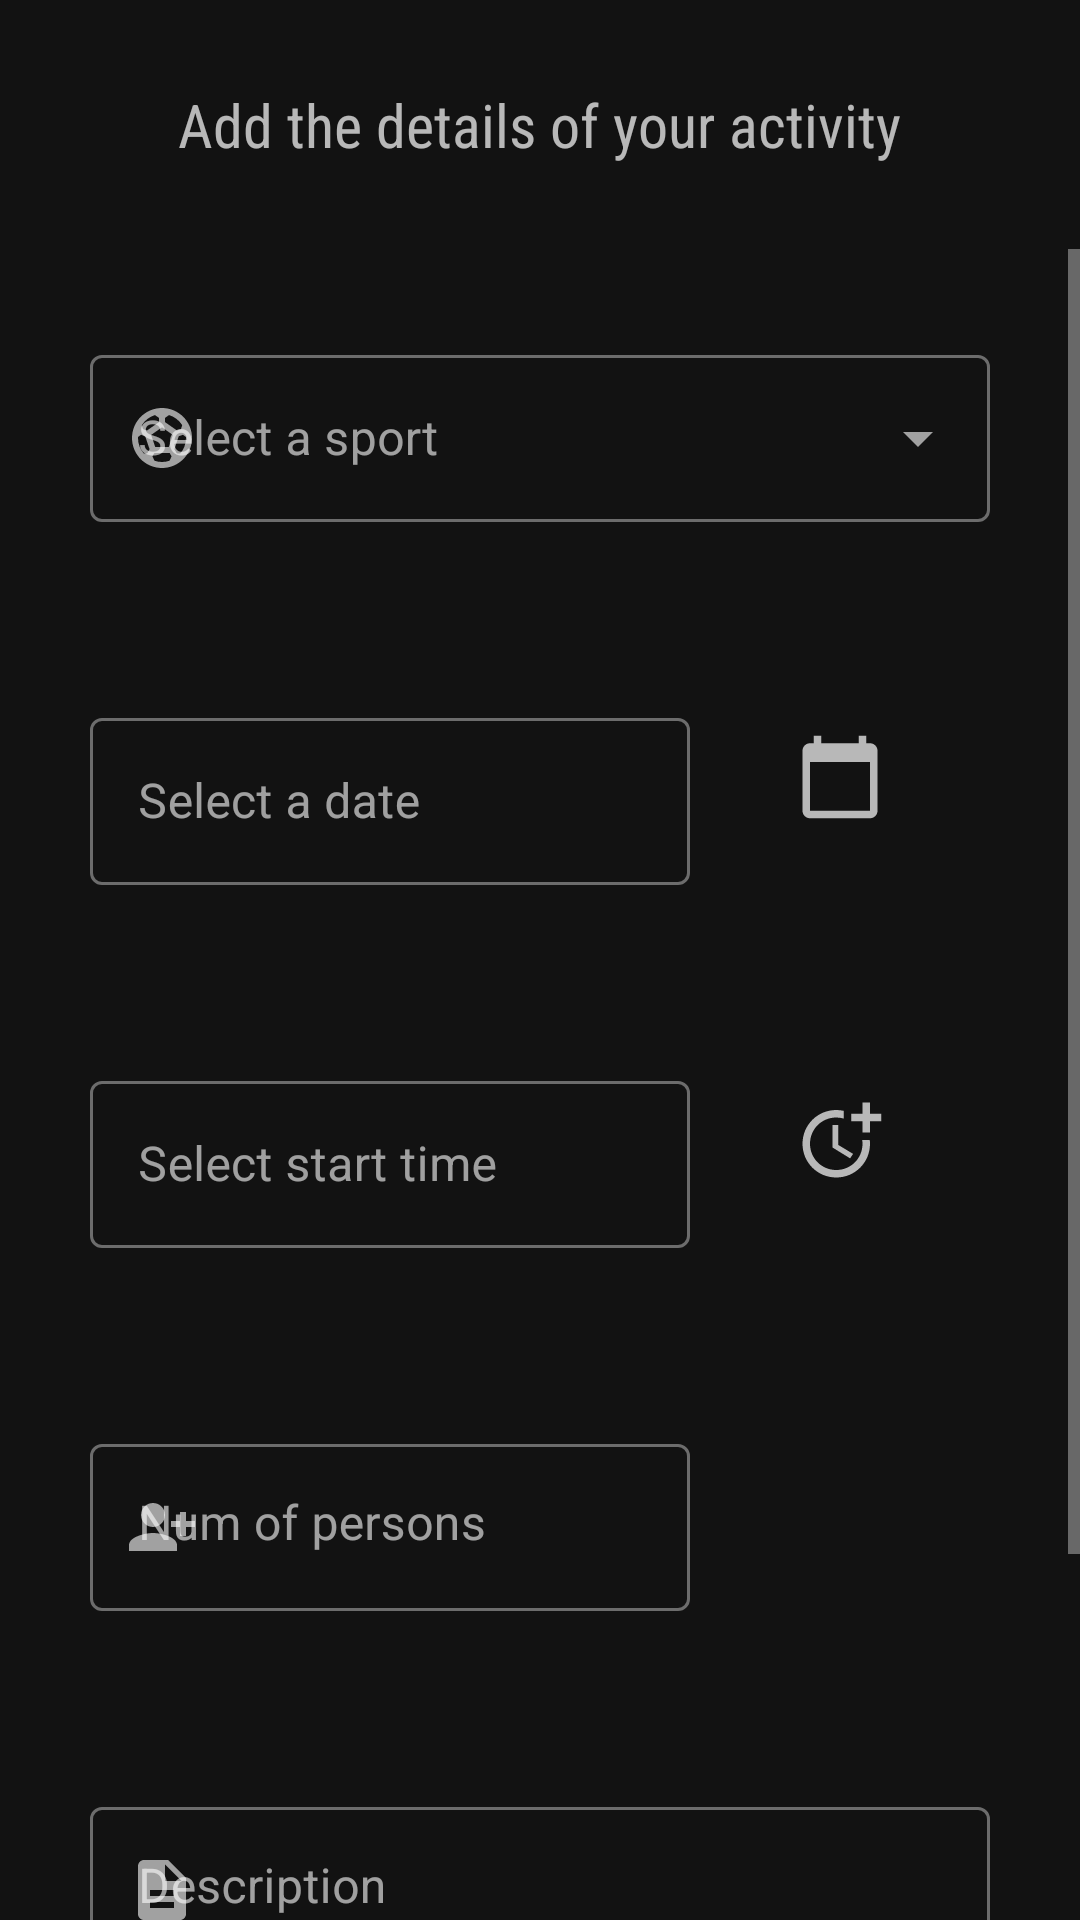

Icon click points for this 1080px x 1920px phone screenshot, format [x,y]:
calendar: [840,777]
